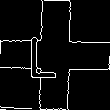L_N: (39, 30, 71, 80)
